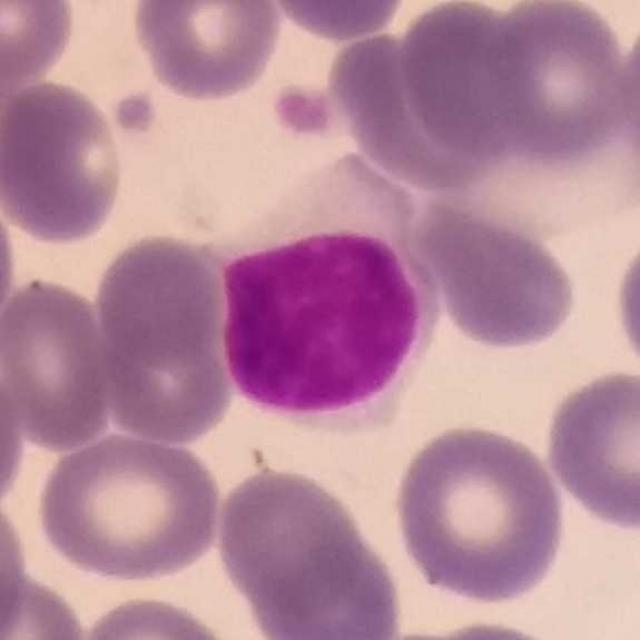Lymphocyte: (213, 154, 440, 428)
RBC: (388, 418, 571, 609), (210, 461, 403, 633), (325, 21, 515, 194), (32, 428, 226, 586), (466, 0, 638, 168), (411, 193, 582, 356), (92, 262, 238, 448), (395, 0, 539, 165), (0, 76, 129, 248), (0, 273, 118, 453), (90, 227, 228, 368), (541, 365, 640, 537), (126, 0, 285, 106), (244, 540, 407, 639), (71, 591, 243, 640), (0, 0, 79, 89), (0, 567, 90, 640), (261, 0, 411, 42), (610, 212, 640, 388), (612, 3, 640, 180), (0, 484, 32, 638), (0, 357, 28, 520), (406, 615, 576, 640), (348, 621, 531, 640), (0, 176, 20, 348)
